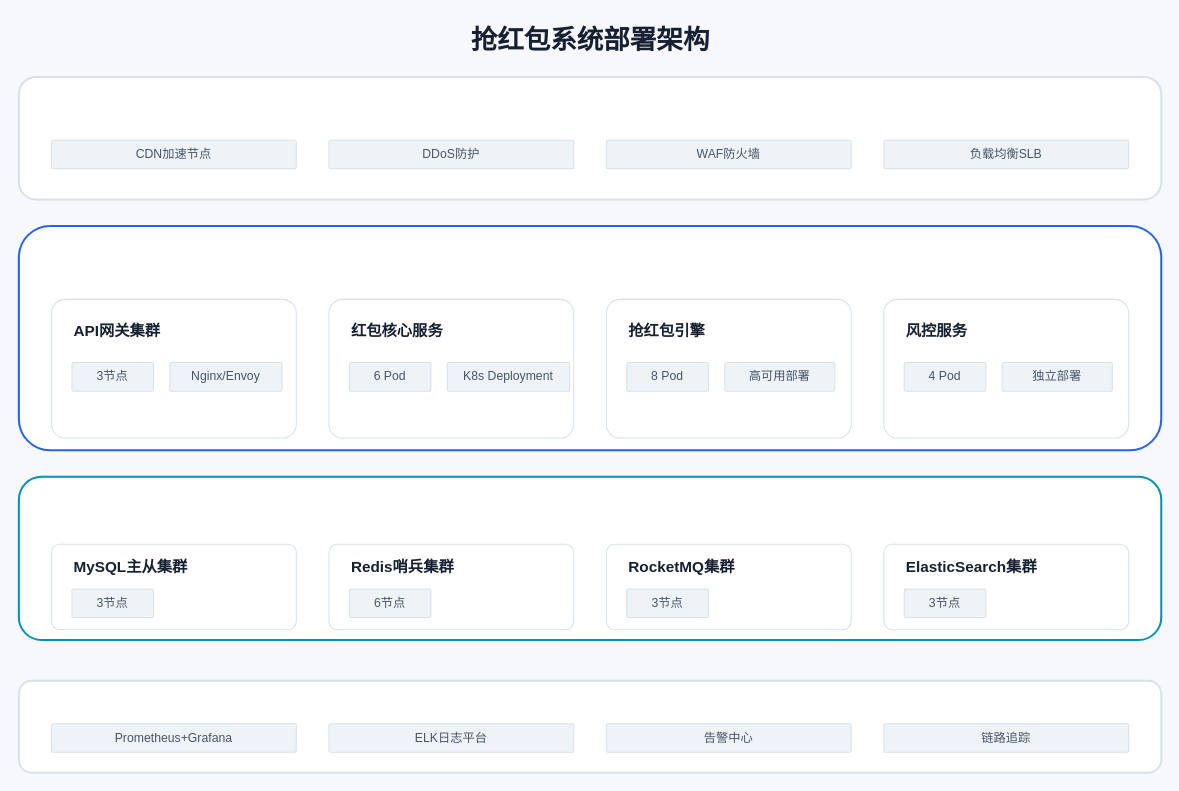
Image size: 1179x791. Some labels were removed from this diagram. The box of each missing label's shape, as (x1, y1, x2, y2) in pixels:
应用服务区 (隔离区): (17, 224, 1162, 451)
数据存储区 (高安全区): (17, 475, 1162, 641)
用户接入区: (17, 75, 1162, 200)
运维监控区: (17, 679, 1162, 773)
